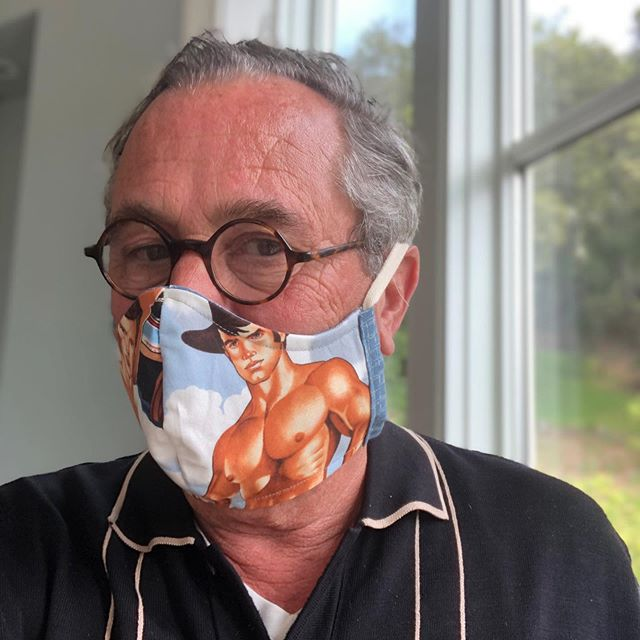homemade: (91, 297, 395, 500)
